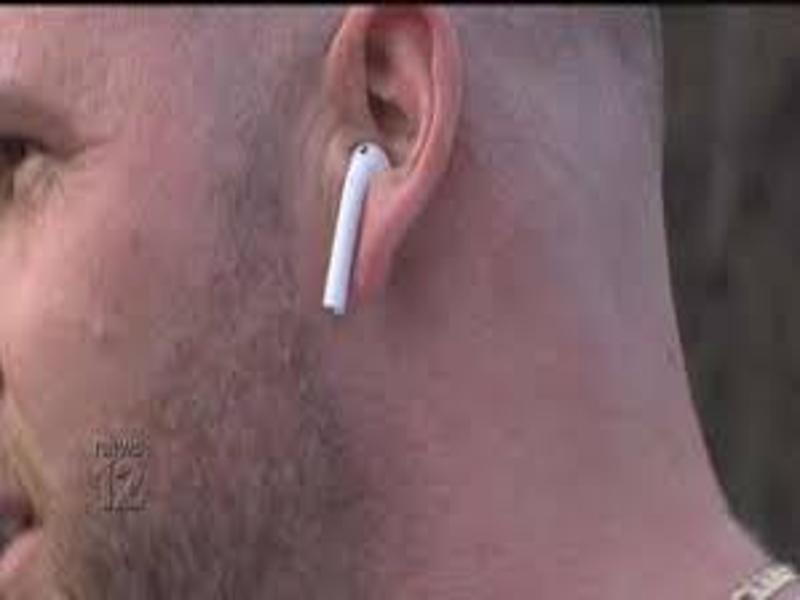headphone: (316, 143, 392, 321)
